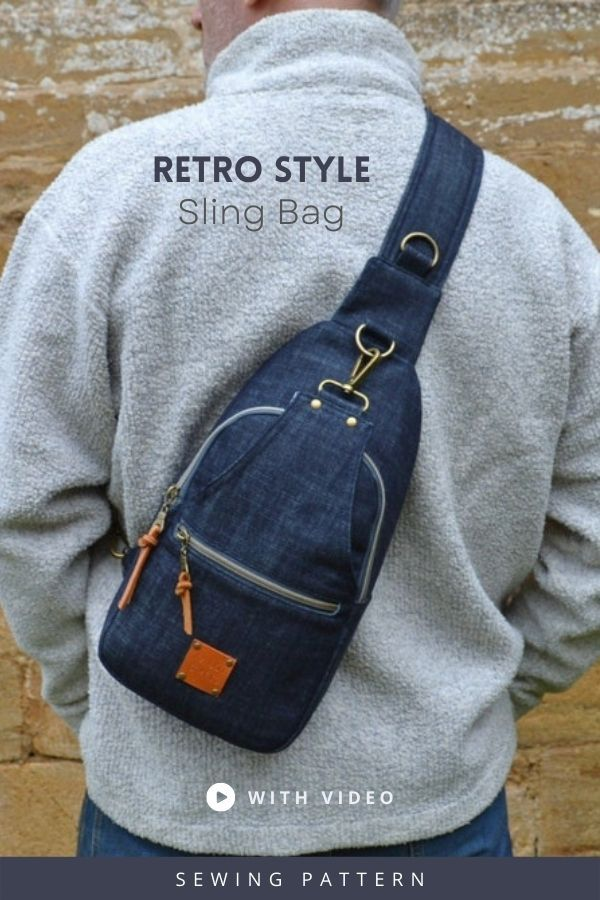cuero: (115, 523, 238, 697)
